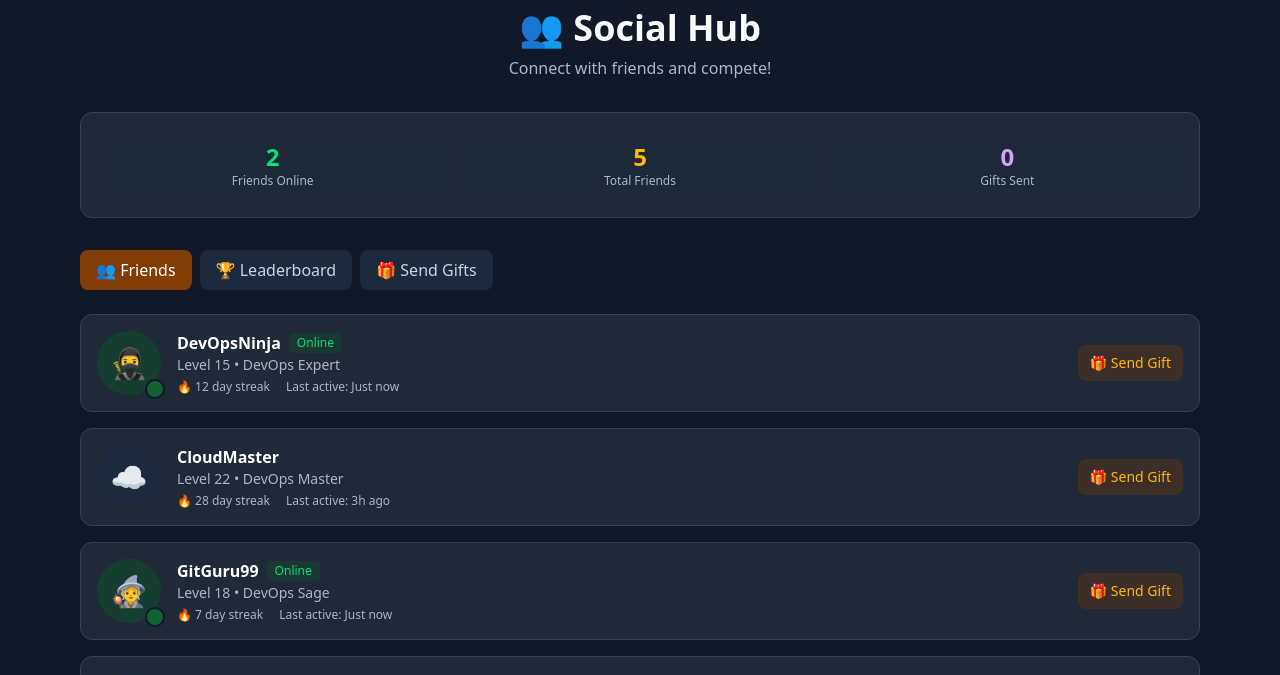
Test: SocialPage › highlights the top three ranks and marks friend entries
Click the button "🏆 Leaderboard" at (276, 270), box [200,250,352,290]
(page scrolled)
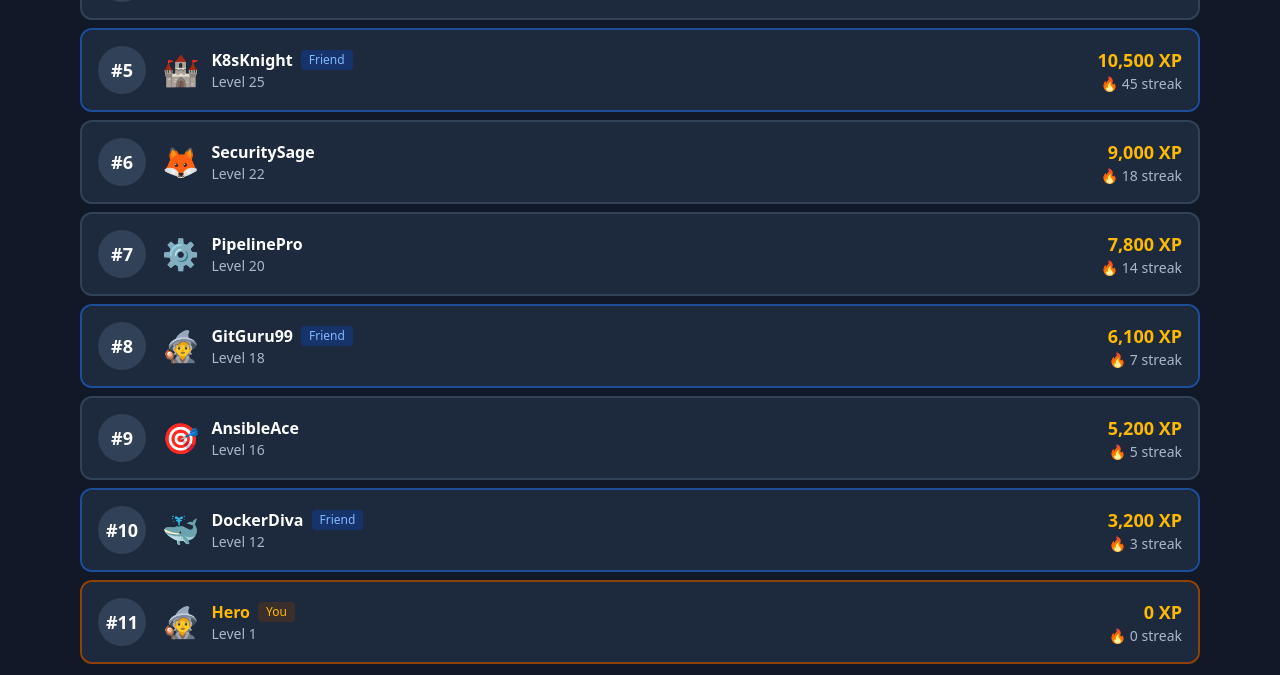
Now the text "Friend" next to "K8sKnight" is shown, box [309,51,345,68]
Now the text "Friend" next to "GitGuru99" is shown, box [309,327,345,344]
Now the text "Friend" next to "DockerDiva" is shown, box [320,511,355,528]
